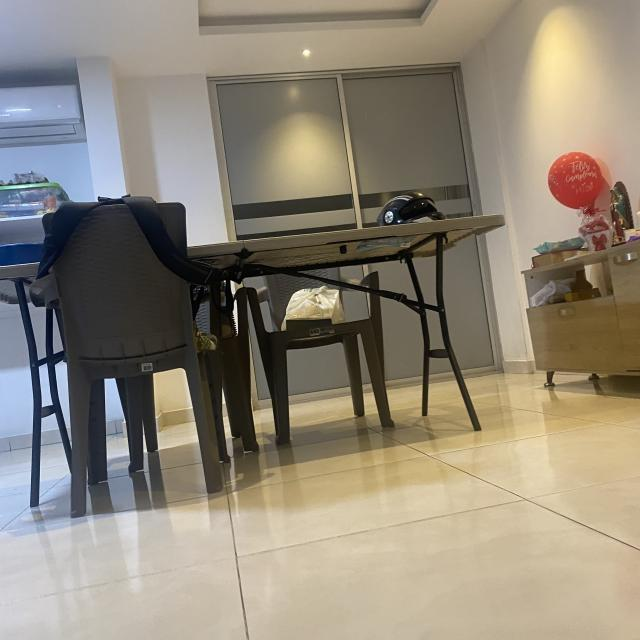obstacle: (8, 206, 528, 432), (46, 186, 250, 531), (515, 225, 640, 395)
